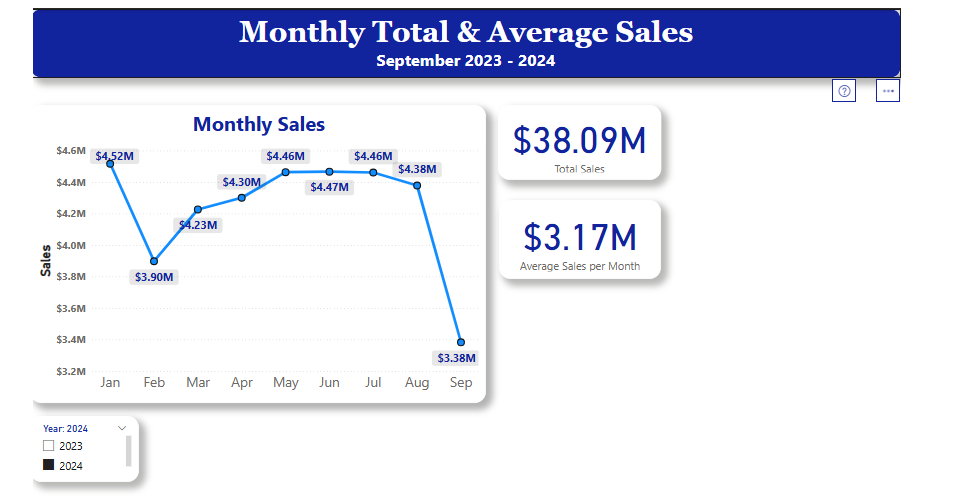

Layout of this report page (visuals, bound fields, positions):
{"tool":"powerbi","page":{"name":"Page 1","canvas":[1280,720],"ordinal":0},"visuals":[{"type":"lineChart","title":"Monthly Sales","fields":{"Category":["completed_orders.Month Name"],"Y":["Sum(completed_orders.sales)"]},"box":[0,141.1,670,437.9],"z":0},{"type":"actionButton","box":[0,0,100,40],"z":1000},{"type":"slicer","fields":{"Values":["completed_orders.purchase_date.Variation.Date Hierarchy.Year"]},"box":[0,598,160.2,97],"z":2000},{"type":"card","fields":{"Values":["Sum(completed_orders.sales)"]},"box":[687.7,141.1,239.5,110.2],"z":3000},{"type":"textbox","box":[1.5,0,1278.4,101.4],"z":4000},{"type":"card","fields":{"Values":["completed_orders.Average Sales per Month"]},"box":[689.1,280.7,238,116.1],"z":5000}]}

Visuals, with their boxes in screenshot pixels (x1, y1, x2, y2):
"Monthly Sales" lineChart: detection(28, 102, 488, 403)
actionButton: detection(28, 5, 96, 33)
slicer - completed_orders.purchase_date.Variation.Date Hierarchy.Year: detection(28, 416, 138, 483)
card - Sum(completed_orders.sales): detection(501, 102, 665, 178)
textbox: detection(29, 5, 908, 75)
card - completed_orders.Average Sales per Month: detection(502, 198, 665, 278)
